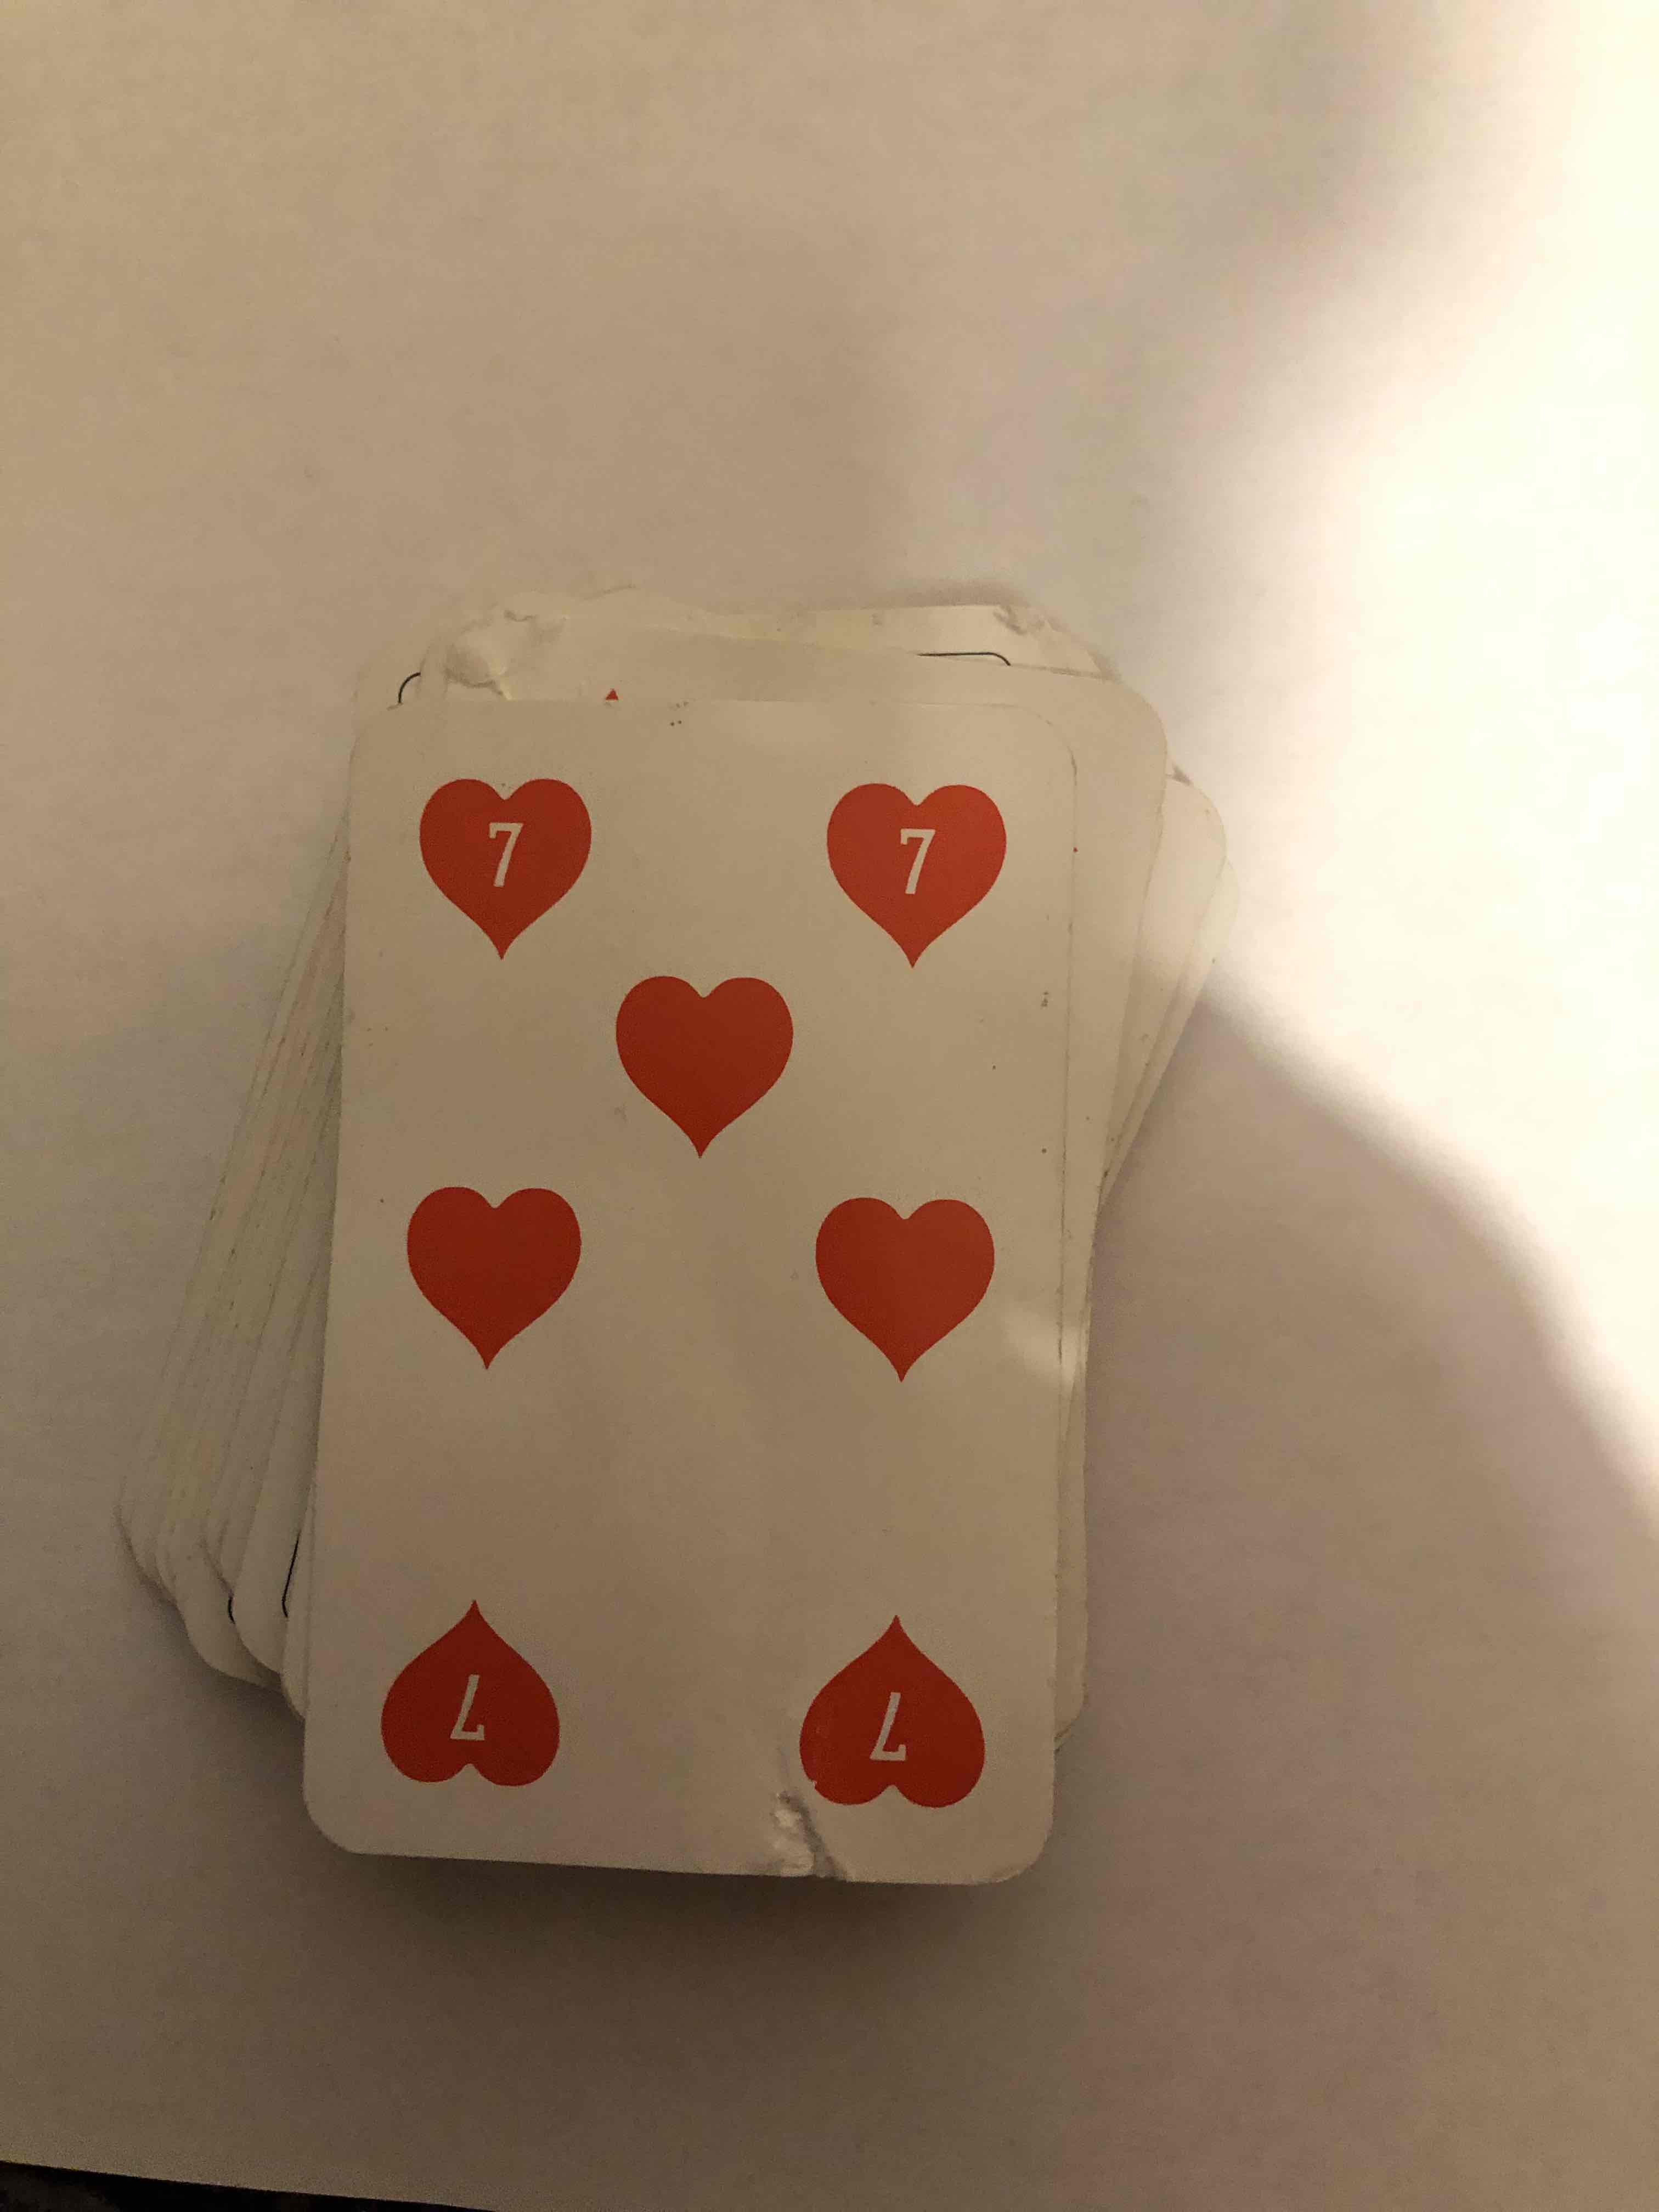hearts7: (378, 653, 1039, 1881)
